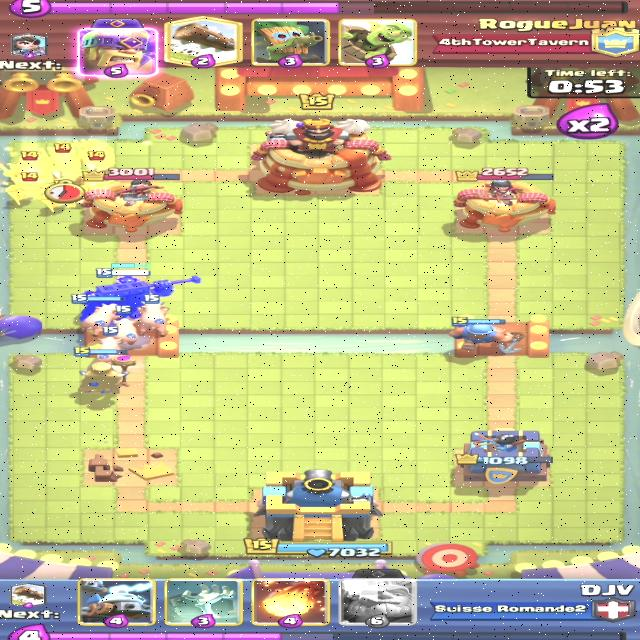Enemy-Goblin: (5, 172, 48, 206), (43, 177, 77, 212)
Enemy-SpearGoblin: (0, 149, 47, 184), (39, 143, 84, 179), (72, 138, 117, 172)
Player-CursedHog: (71, 293, 127, 337), (105, 306, 140, 346), (136, 295, 169, 336), (94, 326, 127, 362)
Player-Fisherman: (446, 316, 526, 356)
Player-Motherwitch: (70, 346, 136, 394)
Player-SkeletonKing: (82, 263, 204, 321)
